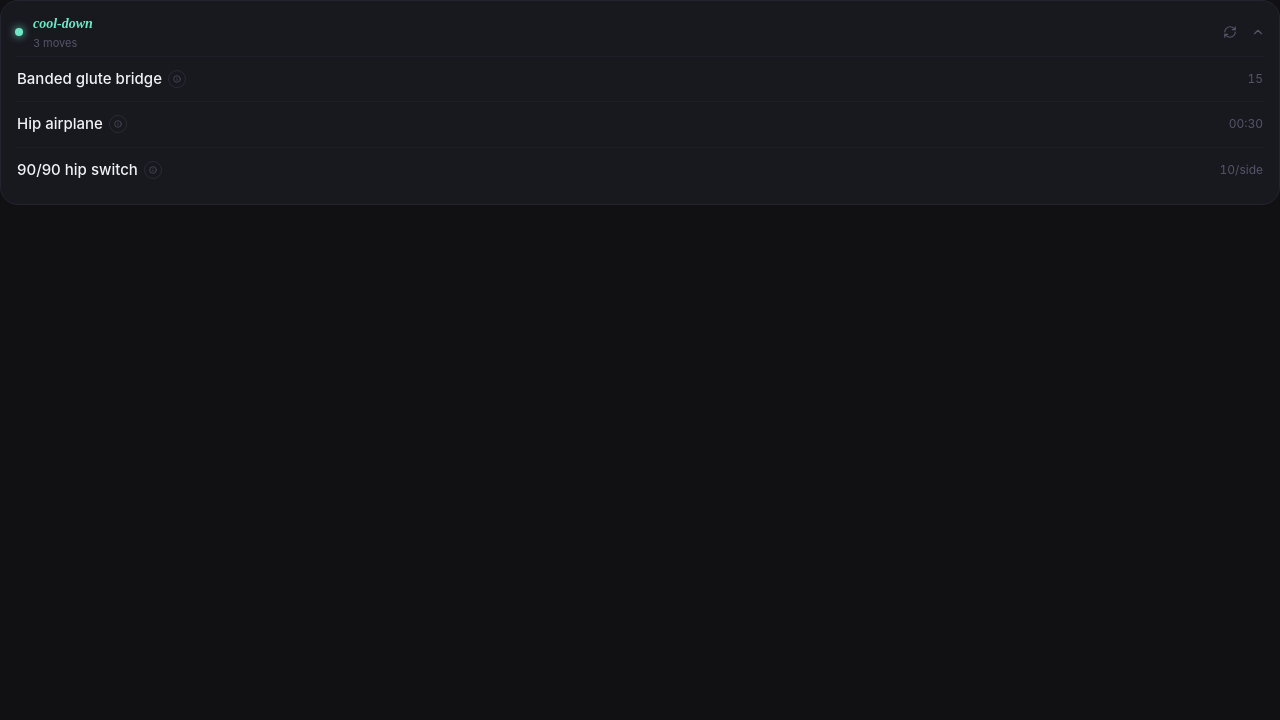
Test: RoutineSlot › cooldown picker shows the cooldown-specific chips
This screenshot has width=1280, height=720.
Click the button named "regenerate": point(1230, 32) left=1223, top=25, right=1237, bottom=39
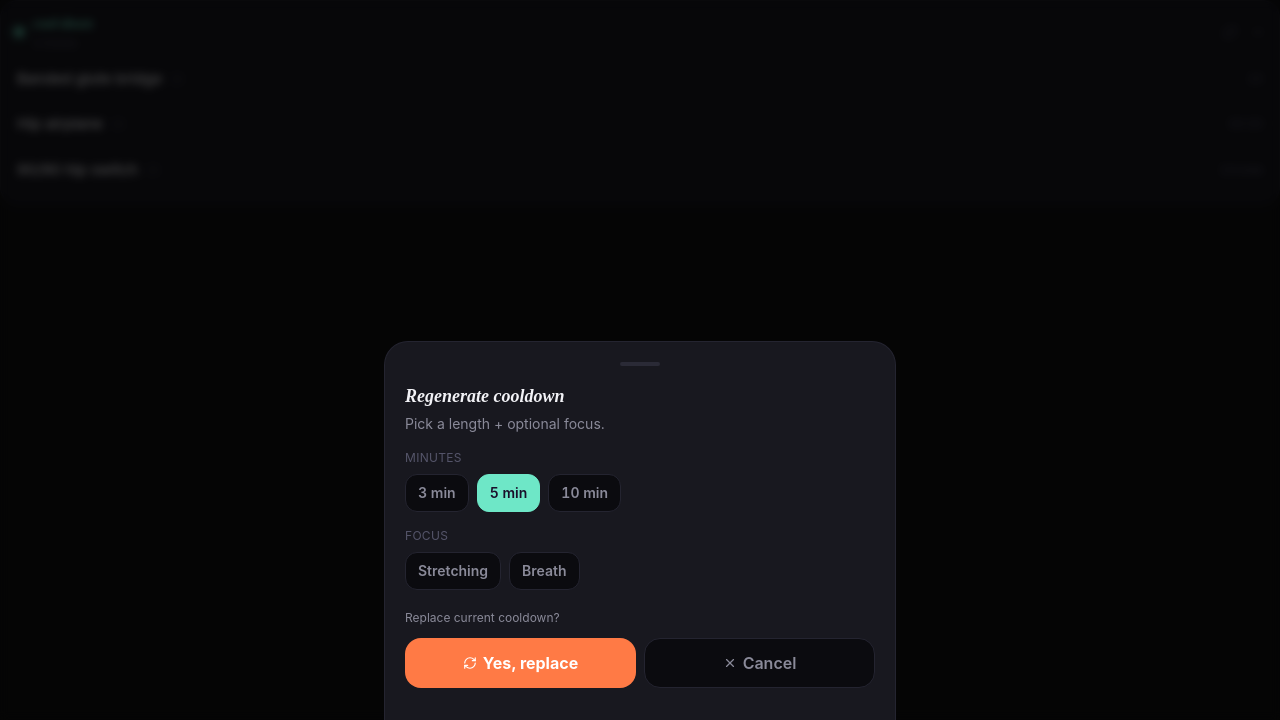
Now the button "3 min" is shown, box left=405, top=474, right=469, bottom=512
Now the button "5 min" is shown, box left=477, top=474, right=540, bottom=512
Now the button "10 min" is shown, box left=548, top=474, right=621, bottom=512
